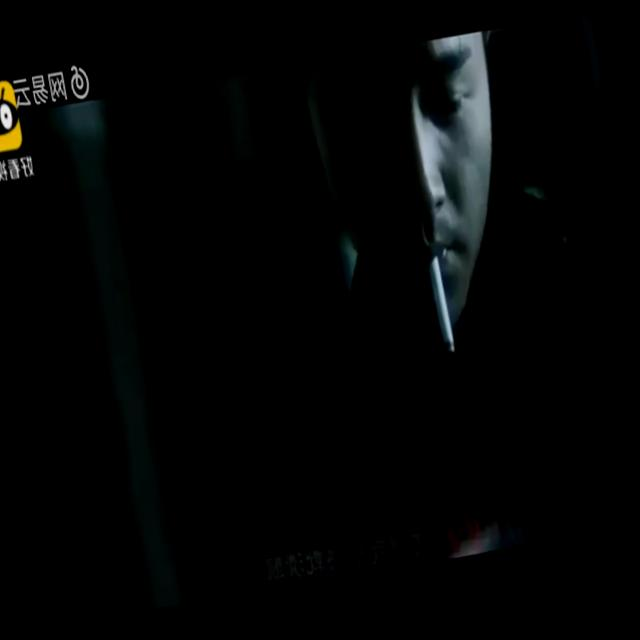cigarette: (410, 249, 467, 356)
